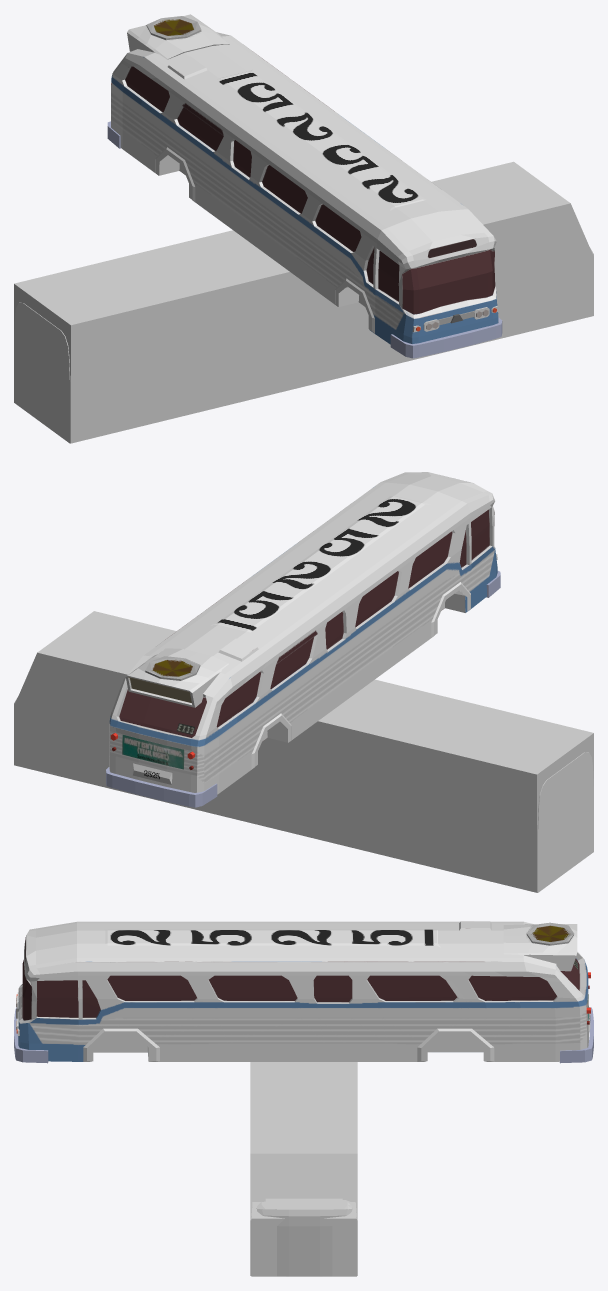
File: bus_textured.glb
3 views of the same model, one above another, from view 1: azimuth 30°, elevation 25°; view 2: azimuth 150°, elevation 25°; view 3: azimuth 270°, elevation 25° (orthographic). The views are drawn at different scales.
Parts seen in each view (by area): view 1: bus mod, bus body, bus body.001, Cube, route box, front bumper; view 2: bus mod, bus body, bus body.001, Cube, route box, back bumper, bus body.003; view 3: bus body, bus mod, bus body.001, Cube, route box, bus poly.001, bus poly.002, thender B L, thender F L, back bumper, front bumper, bus poly.004.
Boxes of the visible parts, <box> form: bus mod: <box>14,161,593,443</box>; bus body: <box>111,32,498,344</box>; bus body.001: <box>217,70,425,210</box>; Cube: <box>14,248,593,443</box>; route box: <box>127,14,229,59</box>; front bumper: <box>390,317,502,358</box>; bus mod: <box>14,611,593,892</box>; bus body: <box>109,472,497,794</box>; bus body.001: <box>211,495,430,632</box>; Cube: <box>14,697,593,892</box>; route box: <box>125,648,228,707</box>; back bumper: <box>106,767,217,807</box>; bus body.003: <box>122,734,184,769</box>; bus body: <box>18,921,588,1061</box>; bus mod: <box>250,1062,357,1275</box>; bus body.001: <box>104,929,440,947</box>; Cube: <box>251,1198,356,1276</box>; route box: <box>503,922,577,971</box>; bus poly.001: <box>277,1232,332,1276</box>; bus poly.002: <box>256,1202,352,1270</box>; thender B L: <box>417,1028,494,1061</box>; thender F L: <box>83,1028,159,1061</box>; back bumper: <box>559,1007,593,1063</box>; front bumper: <box>14,1007,48,1063</box>; bus poly.004: <box>261,1204,351,1270</box>.
Bounding box in the file's own units: 8.06 × 3.47 × 8.18.
Materials: 19 (10 with a texture image).
